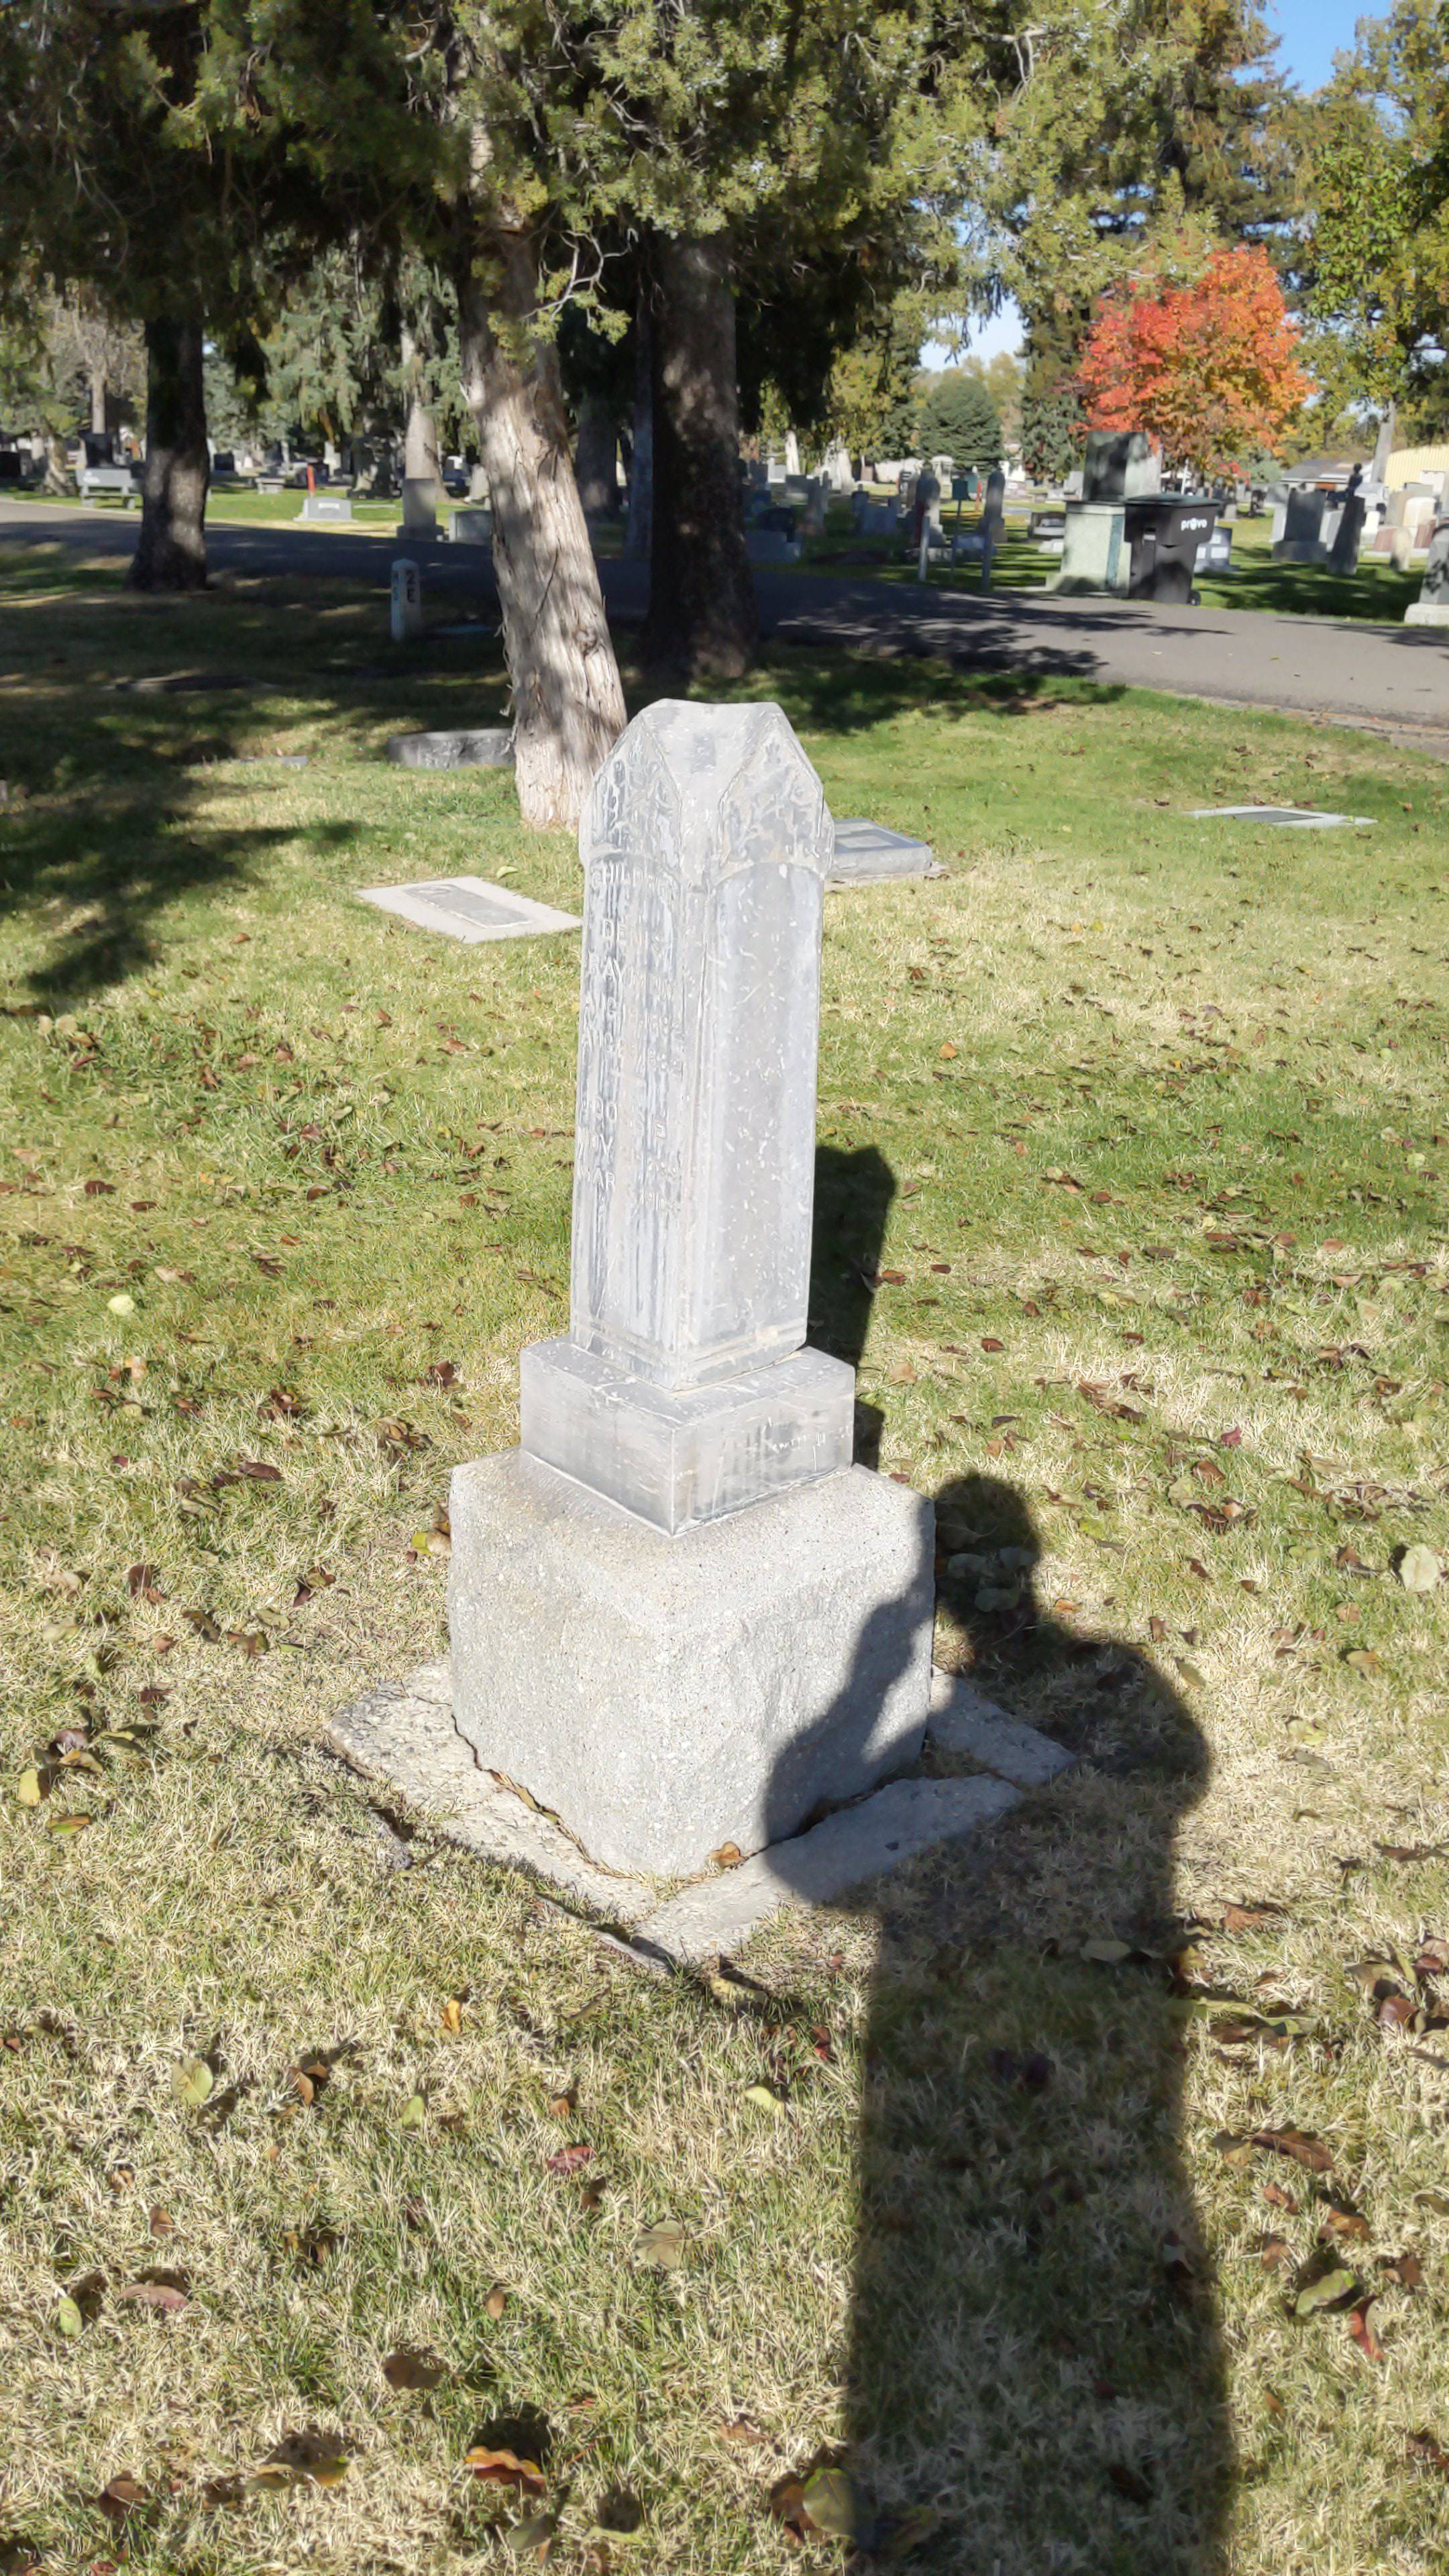obelisk: (534, 694, 863, 1516)
